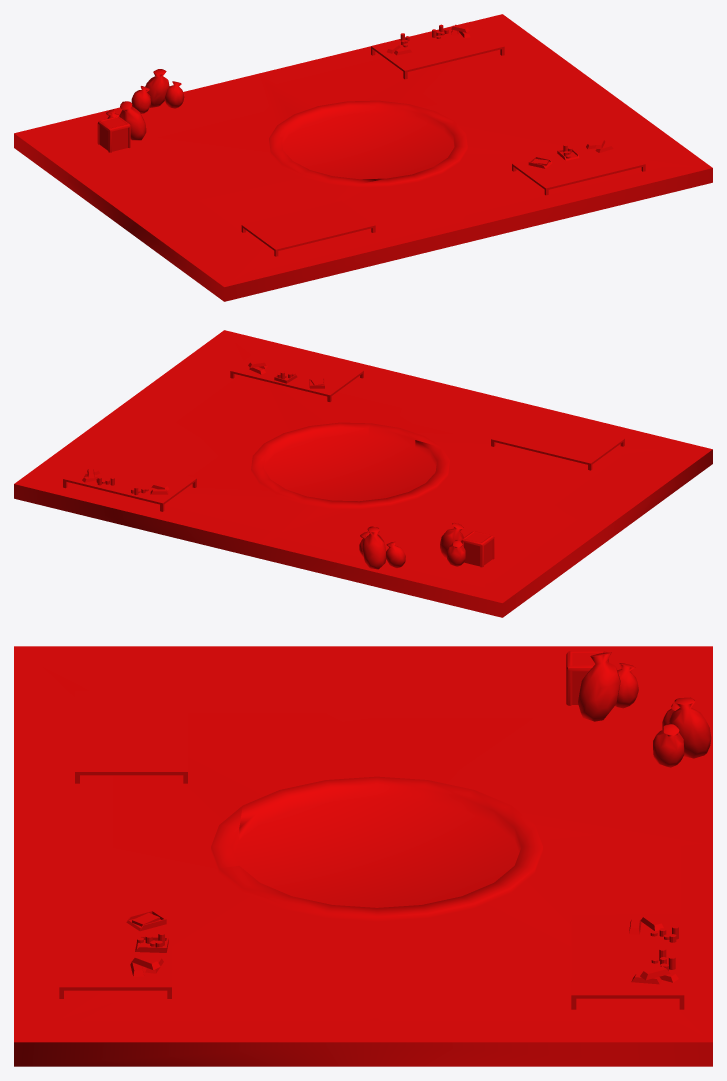
The model's file is moC.fbx.
3 renders of one model, top to bottom at view 1: azimuth 30°, elevation 25°; view 2: azimuth 150°, elevation 25°; view 3: azimuth 270°, elevation 25°, orthographic. The views are drawn at different scales.
Visible parts, largest first — view 1: pCylinder6; view 2: pCylinder6; view 3: pCylinder6.
Boxes of the visible parts, bbox=[...] form: pCylinder6: bbox=[14, 14, 712, 301]; pCylinder6: bbox=[14, 330, 712, 617]; pCylinder6: bbox=[14, 646, 712, 1066].
Bounding box in the file's own units: 0.9676 × 0.0946 × 0.7214.
